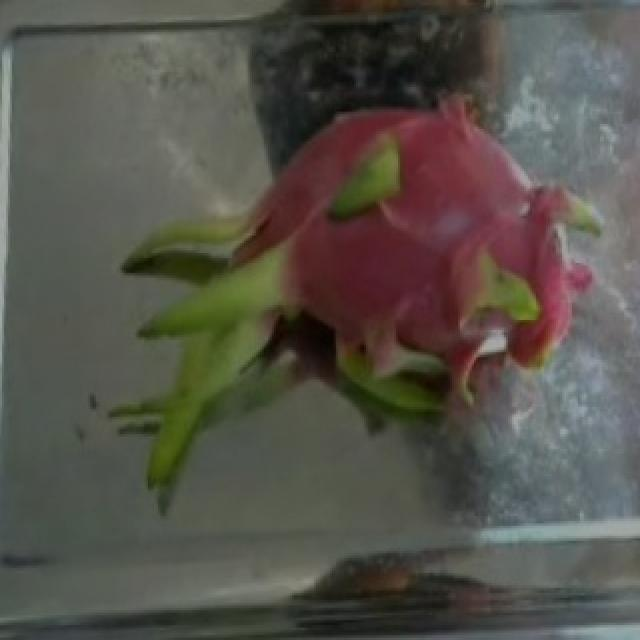fruit: (218, 65, 624, 491)
